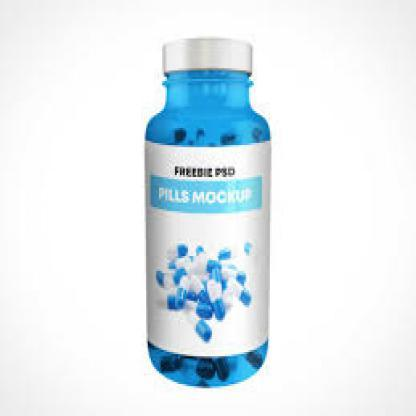jar: (145, 40, 270, 386)
